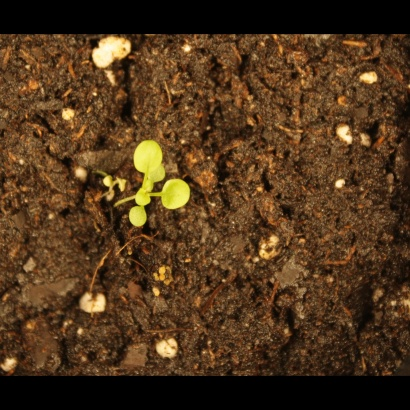leaf: (131, 138, 163, 176), (159, 177, 192, 212), (127, 205, 150, 229), (146, 161, 169, 184), (132, 187, 155, 210)
